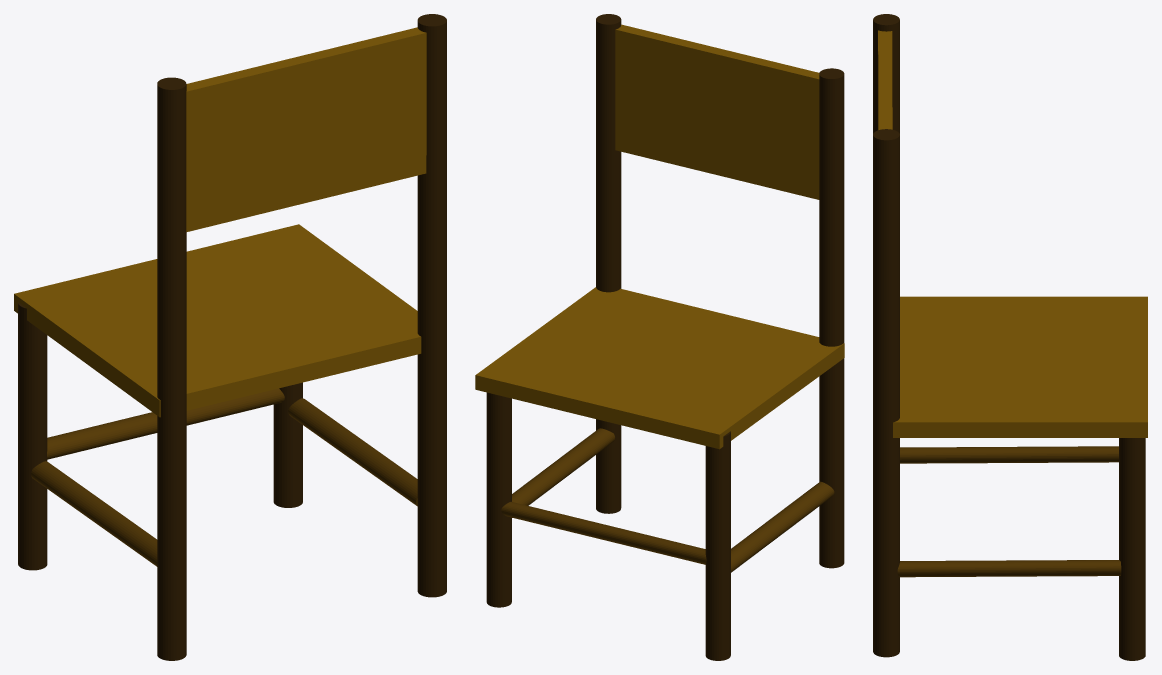
File: chair.fbx
The picture shows the model from 3 angles, left to right: view 1: azimuth 30°, elevation 25°; view 2: azimuth 150°, elevation 25°; view 3: azimuth 270°, elevation 25°; orthographic projection. The views are drawn at different scales.
Visible parts, largest first — view 1: Chair_seat.001, Chair back, Backleg_right001, Backleg_left.002, Frontleg_right.003, Supportbeam1.001, Supportbeam1.005, Supportbeam1.002, Frontleg_left.004; view 2: Chair_seat.001, Chair back, Backleg_right001, Backleg_left.002, Frontleg_right.003, Frontleg_left.004, Supportbeam1.001, Supportbeam1.002, Supportbeam1.005; view 3: Chair_seat.001, Backleg_left.002, Frontleg_left.004, Supportbeam1.005, Supportbeam1.002, Backleg_right001, Chair back.
Boxes of the visible parts, bbox=[...] form: Chair_seat.001: bbox=[14, 224, 421, 417]; Chair back: bbox=[186, 27, 426, 232]; Backleg_right001: bbox=[157, 77, 186, 660]; Backleg_left.002: bbox=[417, 14, 446, 597]; Frontleg_right.003: bbox=[18, 302, 47, 570]; Supportbeam1.001: bbox=[47, 388, 284, 459]; Supportbeam1.005: bbox=[288, 398, 417, 506]; Supportbeam1.002: bbox=[31, 461, 157, 566]; Frontleg_left.004: bbox=[273, 382, 302, 507]; Chair_seat.001: bbox=[475, 287, 844, 449]; Chair back: bbox=[615, 24, 819, 199]; Backleg_right001: bbox=[819, 68, 844, 568]; Backleg_left.002: bbox=[596, 14, 621, 513]; Frontleg_right.003: bbox=[705, 431, 730, 660]; Frontleg_left.004: bbox=[486, 392, 511, 607]; Supportbeam1.001: bbox=[501, 501, 706, 564]; Supportbeam1.002: bbox=[731, 481, 834, 572]; Supportbeam1.005: bbox=[512, 428, 614, 517]; Chair_seat.001: bbox=[893, 296, 1147, 437]; Backleg_left.002: bbox=[873, 129, 899, 657]; Frontleg_left.004: bbox=[1119, 438, 1145, 660]; Supportbeam1.005: bbox=[897, 560, 1121, 577]; Supportbeam1.002: bbox=[900, 446, 1118, 463]; Backleg_right001: bbox=[873, 14, 899, 133]; Chair back: bbox=[878, 30, 892, 129].
Bounding box in the file's own units: 243 × 465 × 221.
